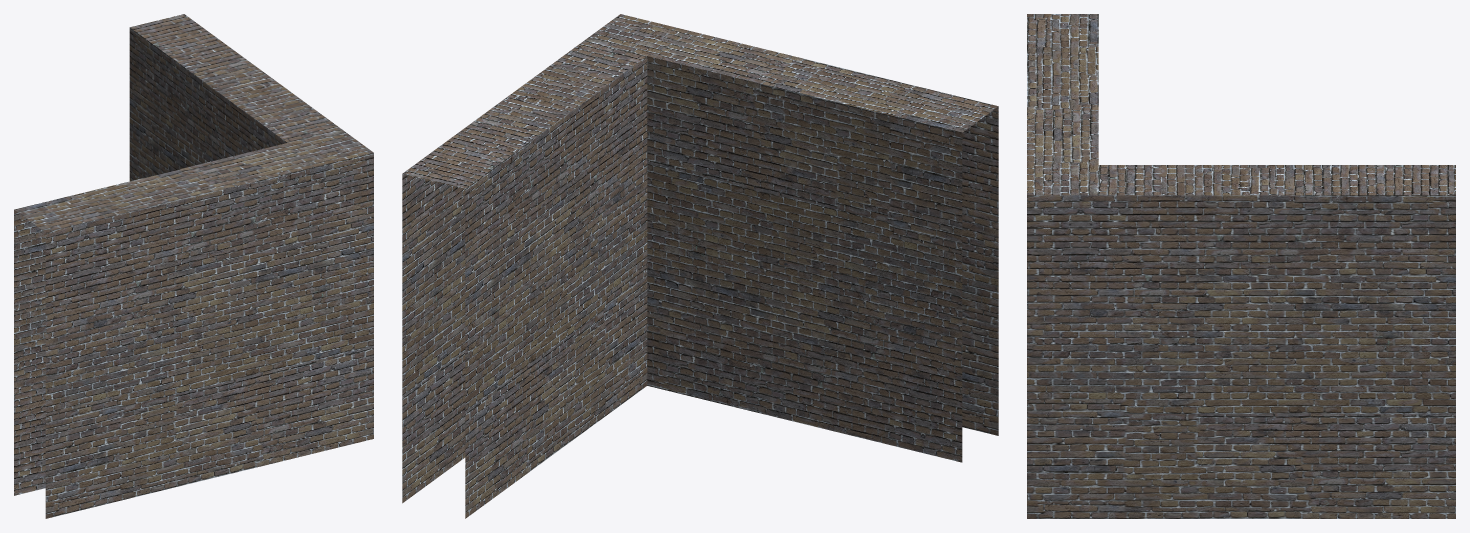
Rendered from Wall_InsetWallCorner.fbx.
3 views of the same model, side by side, from view 1: azimuth 30°, elevation 25°; view 2: azimuth 150°, elevation 25°; view 3: azimuth 270°, elevation 25° (orthographic). The views are drawn at different scales.
Parts seen in each view (by area): view 1: WallCorner; view 2: WallCorner; view 3: WallCorner.
Boxes of the visible parts, box(x1,y1,x2,y2) form: WallCorner: box(14, 14, 373, 518); WallCorner: box(402, 14, 998, 518); WallCorner: box(1027, 14, 1455, 518).
Bounding box in the file's own units: 600 × 500 × 600.
Materials: 1 (1 with a texture image).
